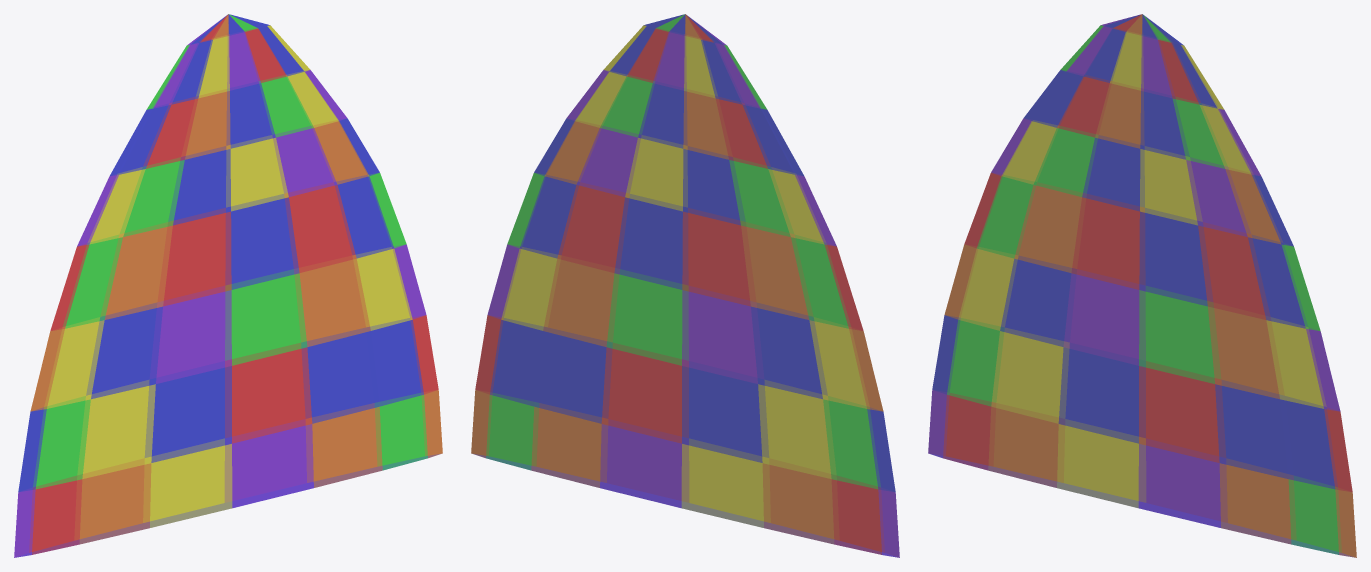
The model's file is StainedGlassWindowArch.fbx.
The picture shows the model from 3 angles, left to right: view 1: azimuth 30°, elevation 25°; view 2: azimuth 150°, elevation 25°; view 3: azimuth 330°, elevation 25°; orthographic projection.
Parts seen in each view (by area): view 1: Sphere; view 2: Sphere; view 3: Sphere.
Part boxes in pixels (<box>): Sphere: <box>14,14,442,557</box>; Sphere: <box>471,14,899,557</box>; Sphere: <box>928,14,1356,557</box>.
Size of the model in its own units: 200 by 219 by 6.
